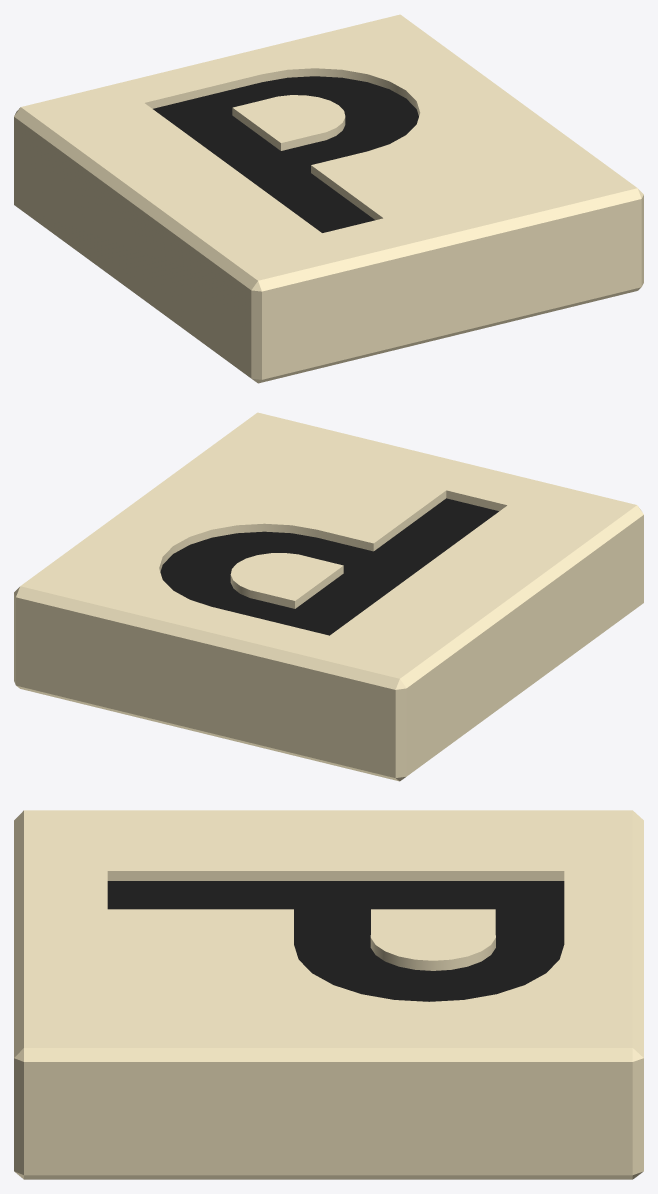
Rendered from Boardgame_Piece_Anagram_Letter_P_01.fbx.
The picture shows the model from 3 angles, top to bottom: view 1: azimuth 30°, elevation 25°; view 2: azimuth 150°, elevation 25°; view 3: azimuth 270°, elevation 25°; orthographic projection. The views are drawn at different scales.
Parts seen in each view (by area): view 1: Boardgame_Piece_Anagram_Letter_P_01; view 2: Boardgame_Piece_Anagram_Letter_P_01; view 3: Boardgame_Piece_Anagram_Letter_P_01.
Boxes of the visible parts, <box> form: Boardgame_Piece_Anagram_Letter_P_01: <box>14,14,643,383</box>; Boardgame_Piece_Anagram_Letter_P_01: <box>14,412,643,781</box>; Boardgame_Piece_Anagram_Letter_P_01: <box>14,810,643,1179</box>.
Bounding box in the file's own units: 39.37 × 9.84 × 42.65.
